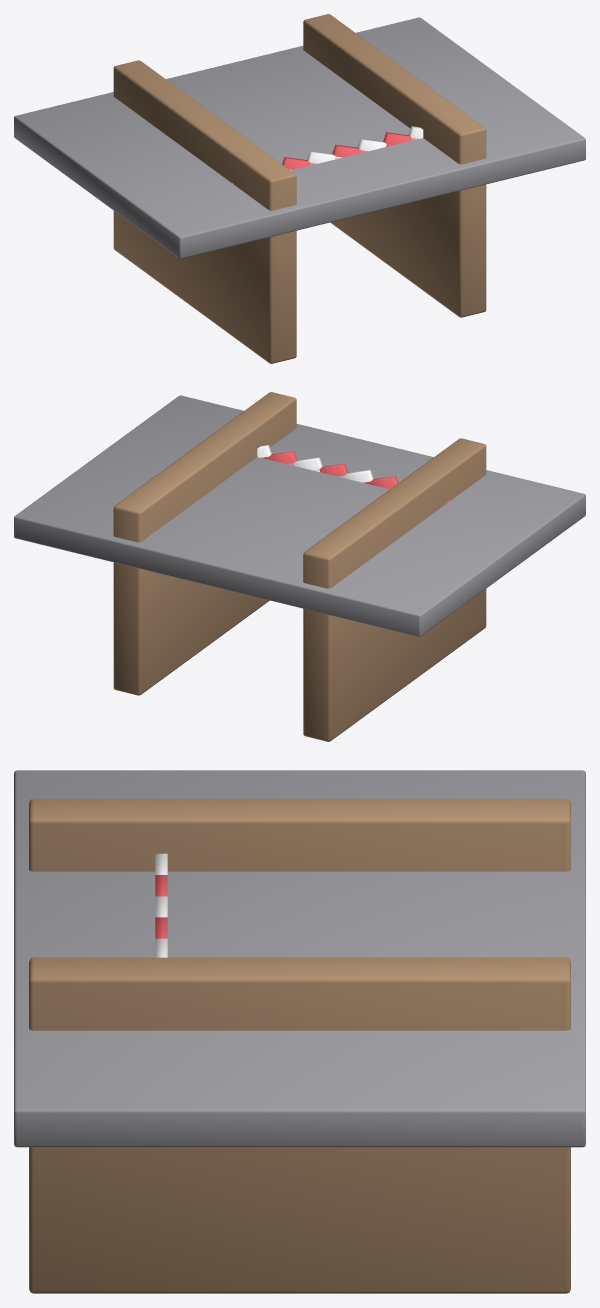
The model's file is slide_tunnel.glb.
The picture shows the model from 3 angles, top to bottom: view 1: azimuth 30°, elevation 25°; view 2: azimuth 150°, elevation 25°; view 3: azimuth 270°, elevation 25°; orthographic projection. The views are drawn at different scales.
Parts seen in each view (by area): view 1: RoofBase, WallL, WallR; view 2: RoofBase, WallL, WallR; view 3: RoofBase, WallR, WallL.
Part boxes in pixels (<box>): RoofBase: <box>14,17,585,258</box>; WallL: <box>113,60,296,363</box>; WallR: <box>303,14,486,317</box>; RoofBase: <box>14,395,585,636</box>; WallL: <box>303,438,486,741</box>; WallR: <box>113,392,296,695</box>; RoofBase: <box>14,770,585,1147</box>; WallR: <box>29,957,570,1293</box>; WallL: <box>29,798,570,871</box>.
Size of the model in its own units: 5.36 by 2.32 by 3.8.
